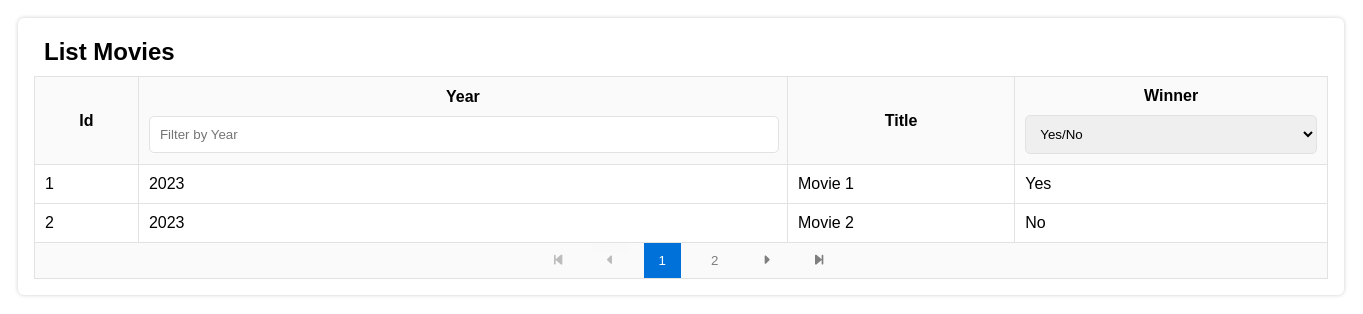
Scenario: MovieList component › filters movies by winner status
The width and height of the screenshot is (1363, 314).
Select "Yes" in the dropdown. click: point(1171, 134)
box: [1025, 115, 1317, 154]
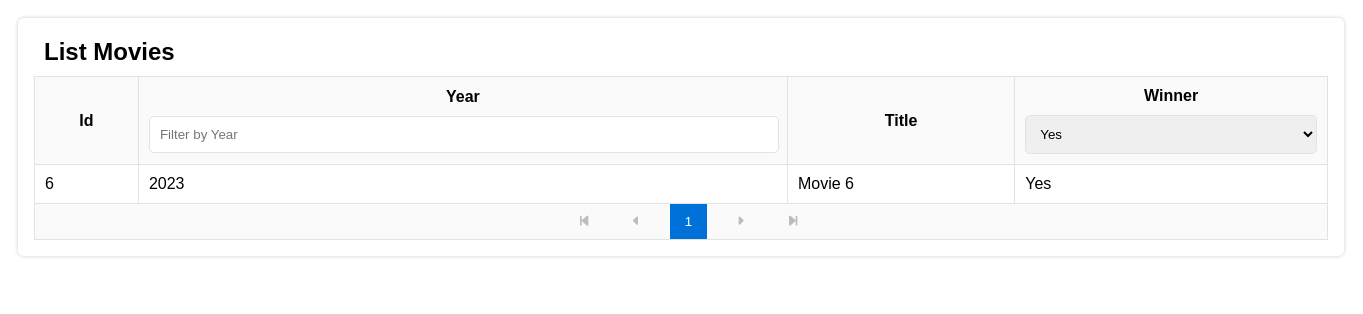
Now the text "Movie 6" is shown, box [788, 164, 1015, 204]
